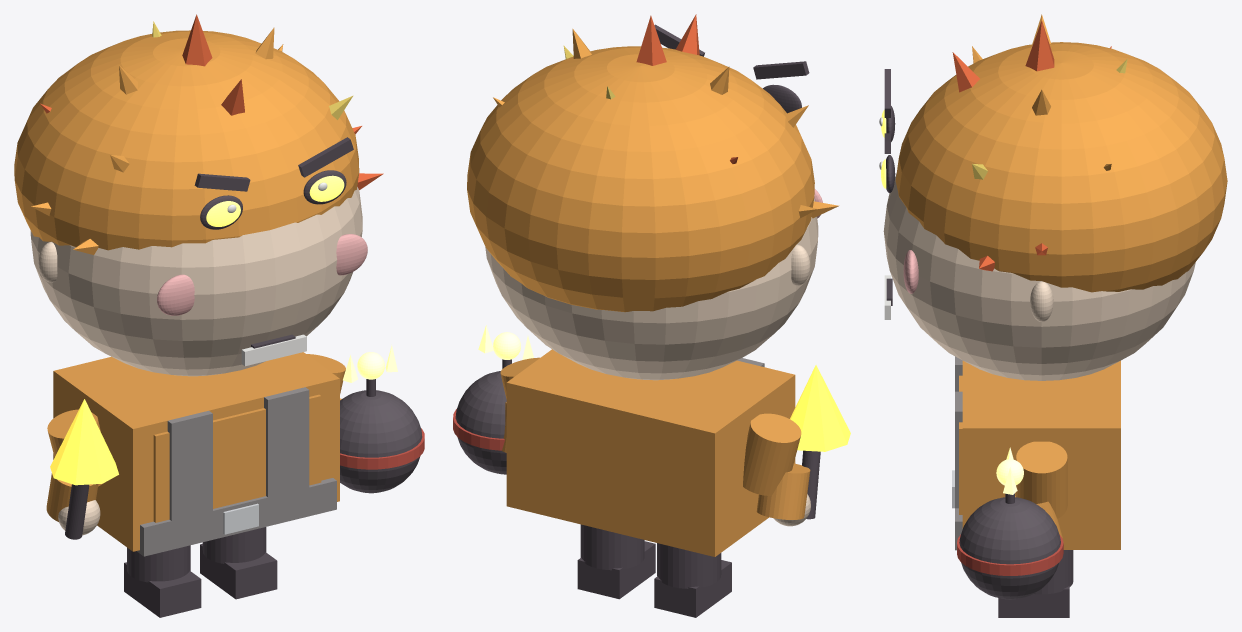
File: arsonist.glb
The picture shows the model from 3 angles, left to right: view 1: azimuth 30°, elevation 25°; view 2: azimuth 150°, elevation 25°; view 3: azimuth 270°, elevation 25°; orthographic projection.
Parts seen in each view (by area): view 1: HairCap, Head, Coat, CoatFront, Bomb, Strap_L, Strap_R, Belt, TorchFlame, Shoe_R, Shoe_L, Leg_L (+17 smaller); view 2: HairCap, Coat, Head, UpperArm_L, Bomb, TorchFlame, Leg_L, Leg_R, Shoe_R, Shoe_L, Forearm_L, FlameHair_00 (+6 smaller); view 3: HairCap, Head, Coat, Bomb, UpperArm_R, Shoe_R, BombBand, FlameHair_00, Leg_R, Ear_R, Strap_R, Cheek_R (+2 smaller).
Boxes of the visible parts, x1,y1,x2,y2 form: HairCap: [14, 30, 359, 250]; Head: [30, 187, 362, 376]; Coat: [53, 352, 339, 551]; CoatFront: [153, 394, 321, 522]; Bomb: [340, 390, 422, 493]; Strap_L: [167, 410, 212, 531]; Strap_R: [264, 387, 309, 508]; Belt: [136, 478, 336, 556]; TorchFlame: [50, 399, 118, 485]; Shoe_R: [200, 544, 277, 599]; Shoe_L: [124, 562, 201, 617]; Leg_L: [127, 545, 190, 582]; HairCap: [467, 46, 814, 312]; Coat: [506, 349, 795, 556]; Head: [485, 199, 818, 380]; UpperArm_L: [743, 413, 801, 495]; Bomb: [455, 371, 506, 474]; TorchFlame: [790, 365, 850, 451]; Leg_L: [657, 543, 721, 588]; Leg_R: [580, 524, 644, 570]; Shoe_R: [577, 541, 655, 599]; Shoe_L: [654, 560, 731, 617]; Forearm_L: [756, 463, 810, 519]; FlameHair_00: [636, 15, 666, 65]; HairCap: [895, 42, 1227, 292]; Head: [883, 173, 1195, 380]; Coat: [962, 360, 1120, 549]; Bomb: [959, 497, 1060, 599]; UpperArm_R: [1016, 441, 1067, 518]; Shoe_R: [998, 586, 1069, 617]; BombBand: [957, 534, 1063, 575]; FlameHair_00: [1025, 20, 1054, 71]; Leg_R: [1034, 550, 1073, 594]; Ear_R: [1030, 281, 1053, 321]; Strap_R: [955, 391, 962, 508]; Cheek_R: [903, 250, 918, 293].
Bounding box in the file's own units: 1.36 × 2 × 1.11.
